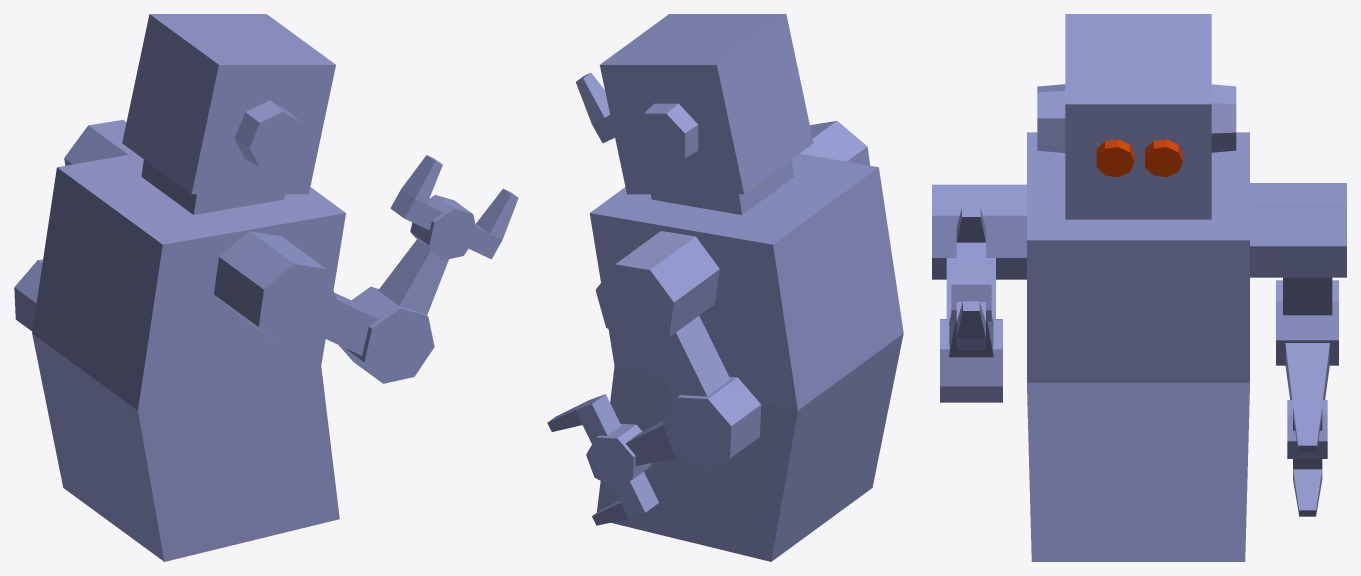
Rendered from robot-1-broken.fbx.
The picture shows the model from 3 angles, left to right: view 1: azimuth 30°, elevation 25°; view 2: azimuth 150°, elevation 25°; view 3: azimuth 270°, elevation 25°; orthographic projection. The views are drawn at different scales.
Parts seen in each view (by area): view 1: robot-1-broken; view 2: robot-1-broken; view 3: robot-1-broken.
Part boxes in pixels (<box>): robot-1-broken: <box>14,14,518,561</box>; robot-1-broken: <box>547,14,903,561</box>; robot-1-broken: <box>932,14,1346,561</box>.
Bounding box in the file's own units: 382 × 488 × 372.
